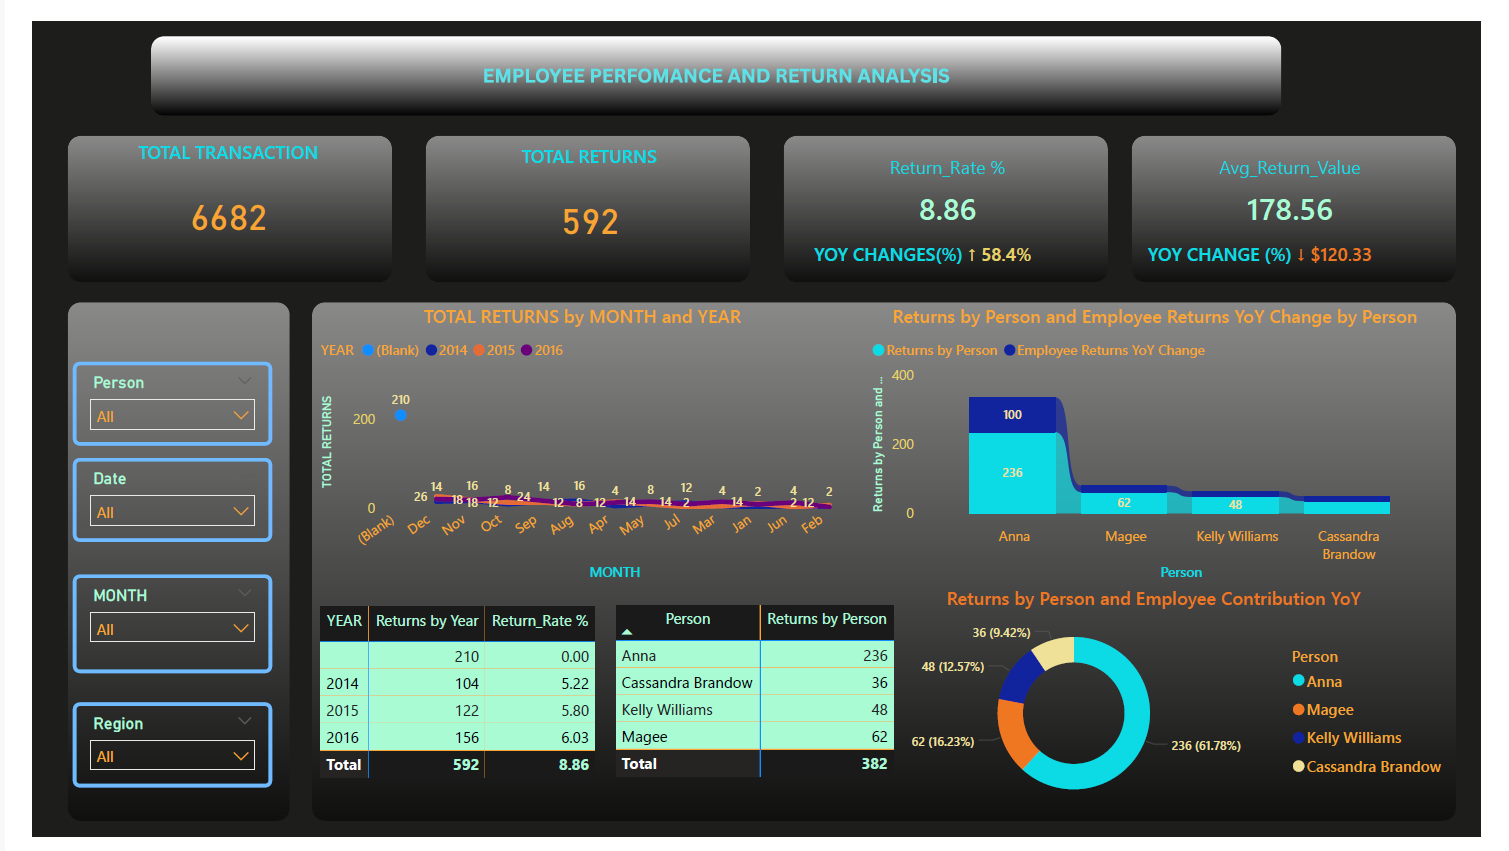

This screenshot's page, from the dashboard's own definition file:
{"tool":"powerbi","page":{"name":"Page 4","canvas":[1280,720],"ordinal":0},"visuals":[{"type":"card","title":"TOTAL RETURNS","fields":{"Values":["measure.TOTAL RETURNS"]},"box":[364.1,108.5,256.6,112.2],"z":0},{"type":"card","title":"TOTAL TRANSACTION","fields":{"Values":["measure.Total Transactions"]},"box":[45.3,104.7,256.6,112.2],"z":1},{"type":"cardVisual","fields":{"Data":["measure.Return_Rate %"]},"box":[674.4,100.9,270.7,119.8],"z":2},{"type":"cardVisual","fields":{"Data":["measure.Avg_Return_Value"]},"box":[968.7,100.9,285.8,119.8],"z":3},{"type":"donutChart","title":"Returns by Person and Employee Contribution YoY","fields":{"Category":["person.Person"],"Y":["measure.Returns by Person"]},"box":[723.4,498.7,535.7,203.9],"z":4},{"type":"columnChart","fields":{"Y":["measure.Returns by Person","measure.Employee Returns YoY Change"],"Category":["person.Person"]},"box":[736.7,250.3,510.1,248.4],"z":5},{"type":"lineChart","fields":{"Category":["DATE.MONTH"],"Series":["DATE.YEAR"],"Y":["measure.TOTAL RETURNS"]},"box":[250.3,250.3,471.2,248.4],"z":6},{"type":"pivotTable","fields":{"Values":["measure.Returns by Person"],"Rows":["person.Person"]},"box":[511.1,511.1,257.9,180.1],"z":7},{"type":"pivotTable","fields":{"Values":["measure.Returns by Year","measure.Return_Rate %"],"Rows":["DATE.YEAR"]},"box":[250.3,512,260.7,179.2],"z":9},{"type":"slicer","fields":{"Values":["person.Person"]},"box":[36,300.6,176.4,74],"z":10},{"type":"slicer","fields":{"Values":["DATE.Date"]},"box":[36,385.9,176.4,74],"z":11},{"type":"slicer","fields":{"Values":["DATE.MONTH"]},"box":[36,489.2,176.4,87.2],"z":12},{"type":"slicer","fields":{"Values":["person.Region"]},"box":[36,602.1,176.4,74.9],"z":13}]}

Visuals, with their boxes in screenshot pixels (x1, y1, x2, y2), scaled from the page's 1280x720 canvas onto the 1509x851 screenshot:
"TOTAL RETURNS" card: box(429, 128, 732, 261)
"TOTAL TRANSACTION" card: box(53, 124, 356, 256)
cardVisual - measure.Return_Rate %: box(795, 119, 1114, 261)
cardVisual - measure.Avg_Return_Value: box(1142, 119, 1479, 261)
"Returns by Person and Employee Contribution YoY" donutChart: box(853, 589, 1484, 830)
columnChart - measure.Returns by Person x measure.Employee Returns YoY Change: box(869, 296, 1470, 589)
lineChart - DATE.MONTH x DATE.YEAR: box(295, 296, 851, 589)
pivotTable - measure.Returns by Person x person.Person: box(603, 604, 907, 817)
pivotTable - measure.Returns by Year x measure.Return_Rate %: box(295, 605, 602, 817)
slicer - person.Person: box(42, 355, 250, 443)
slicer - DATE.Date: box(42, 456, 250, 544)
slicer - DATE.MONTH: box(42, 578, 250, 681)
slicer - person.Region: box(42, 712, 250, 800)
